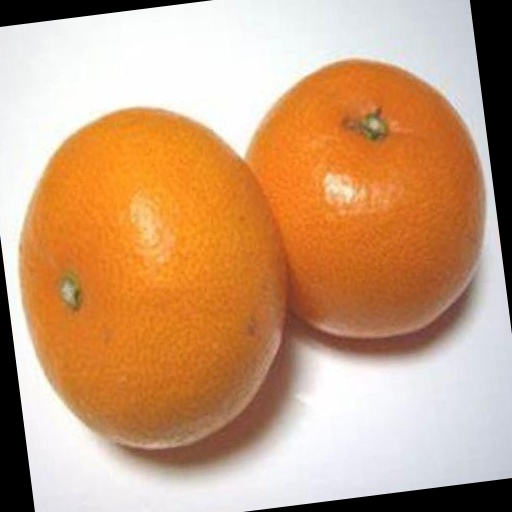fruit: (20, 109, 285, 447), (247, 60, 484, 337)
